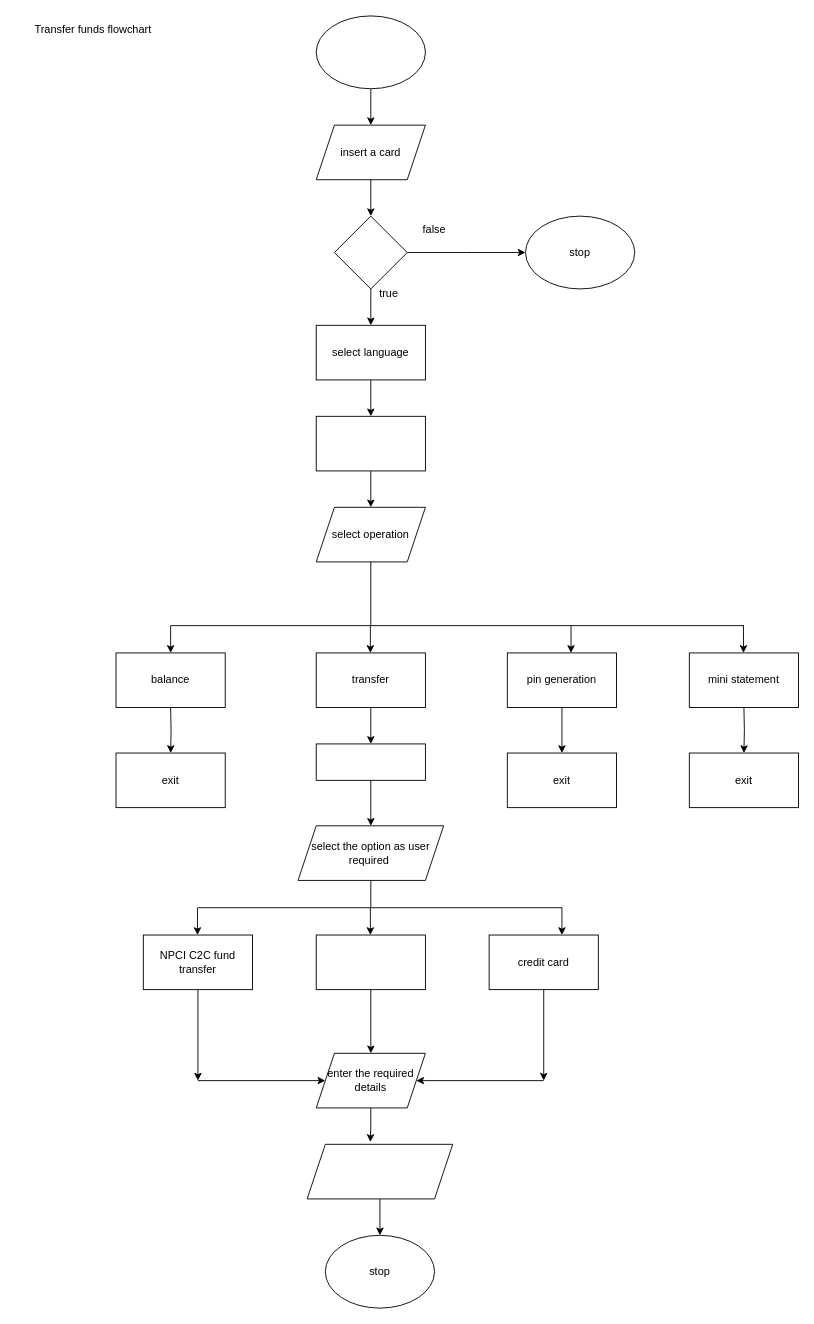
The diagram is 814 pixels wide and 1324 high, and some of its shapes have lost their labels. The shapes that lost their labels are listed below. From the top down, each one's centre as x and y in pixels, then its label:
At pixel 370 52: "start".
At pixel 370 252: "is(card validation)".
At pixel 370 443: "enter pin".
At pixel 370 761: "enter your pin".
At pixel 370 962: "card to card fund transfer".
At pixel 379 1171: "fund will be transfered".
